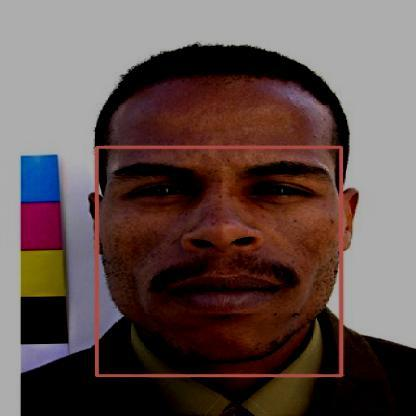without_mask: (96, 147, 341, 375)
